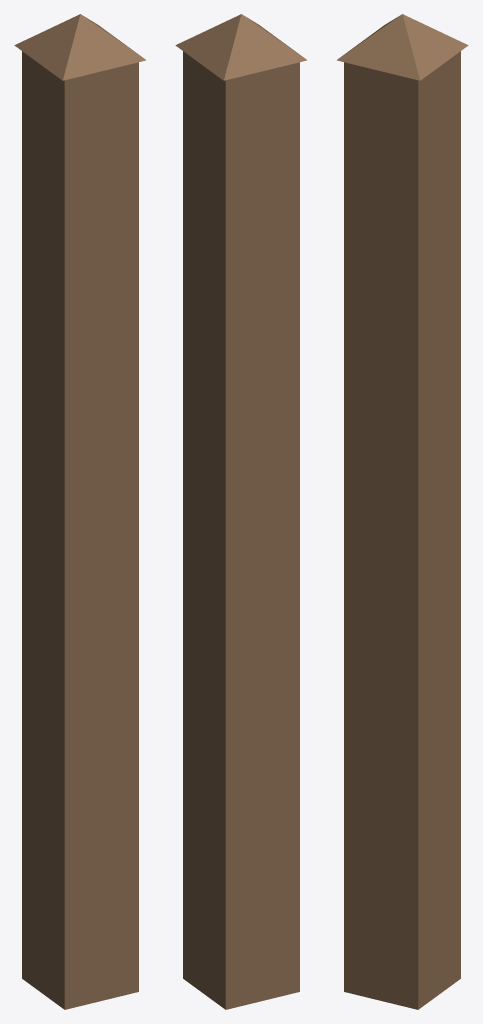
File: wood_fence_post.glb
3 views of the same model, side by side, from view 1: azimuth 30°, elevation 25°; view 2: azimuth 210°, elevation 25°; view 3: azimuth 330°, elevation 25° (orthographic).
Visible parts, largest first — view 1: post, cap; view 2: post, cap; view 3: post, cap.
Part boxes in pixels (box(x1,y1,x2,y2)): post: box(22, 51, 138, 1009); cap: box(14, 14, 145, 80); post: box(183, 51, 299, 1009); cap: box(175, 14, 306, 80); post: box(344, 51, 460, 1009); cap: box(337, 14, 468, 80).
Bounding box in the file's own units: 0.1131 × 1.25 × 0.1131.
